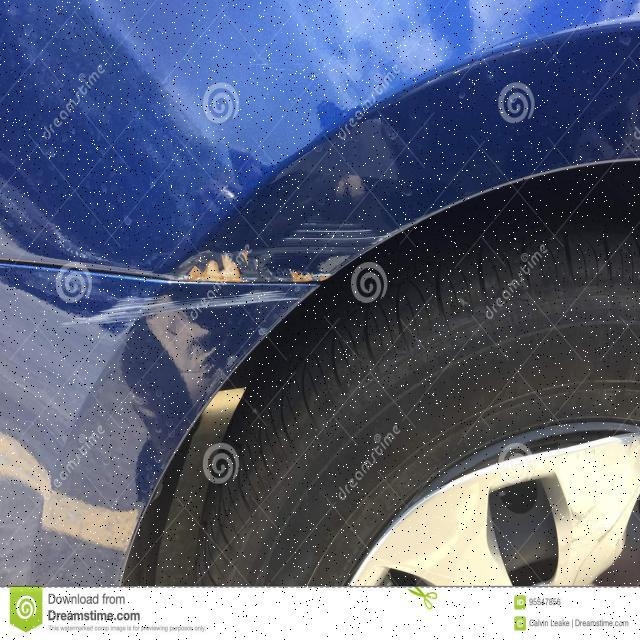quaterpanel-dent: (0, 1, 640, 324)
